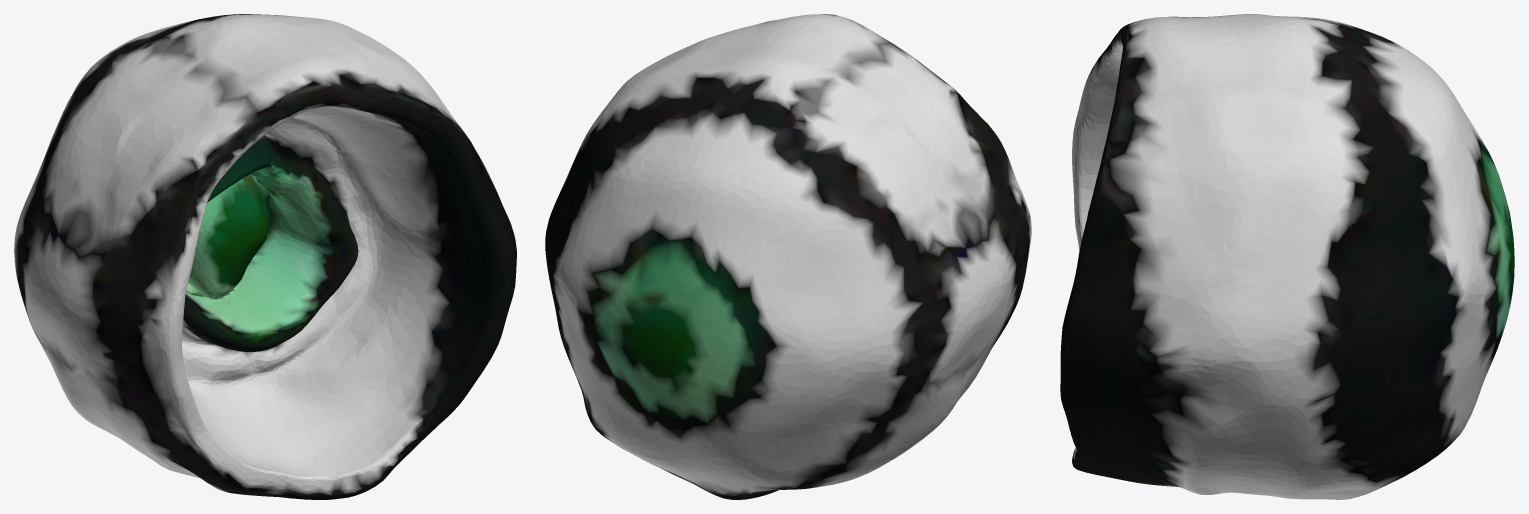
File: eyeshield.glb
3 views of the same model, side by side, from view 1: azimuth 30°, elevation 25°; view 2: azimuth 150°, elevation 25°; view 3: azimuth 270°, elevation 25° (orthographic). The views are drawn at different scales.
Visible parts, largest first — view 1: geometry_0; view 2: geometry_0; view 3: geometry_0.
Boxes of the visible parts, x1=… form: geometry_0: x1=14, y1=14, x2=516, y2=499; geometry_0: x1=545, y1=14, x2=1031, y2=499; geometry_0: x1=1060, y1=14, x2=1514, y2=499.
Bounding box in the file's own units: 0.4688 × 0.4578 × 0.411.
